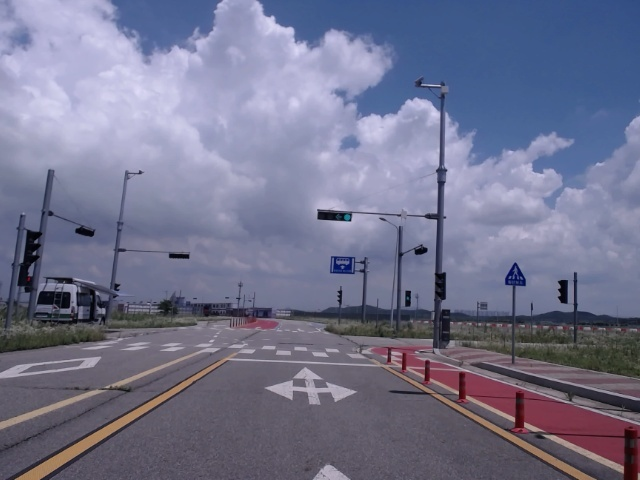all_green_4: (318, 209, 353, 221)
